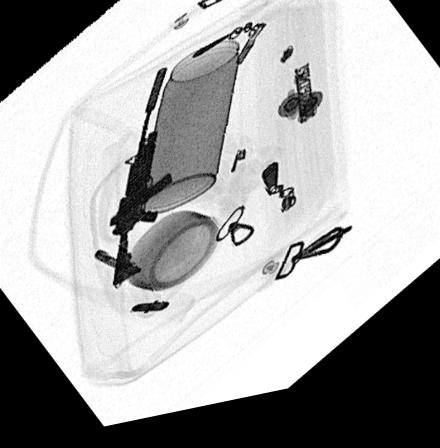Gun: (109, 71, 173, 294)
